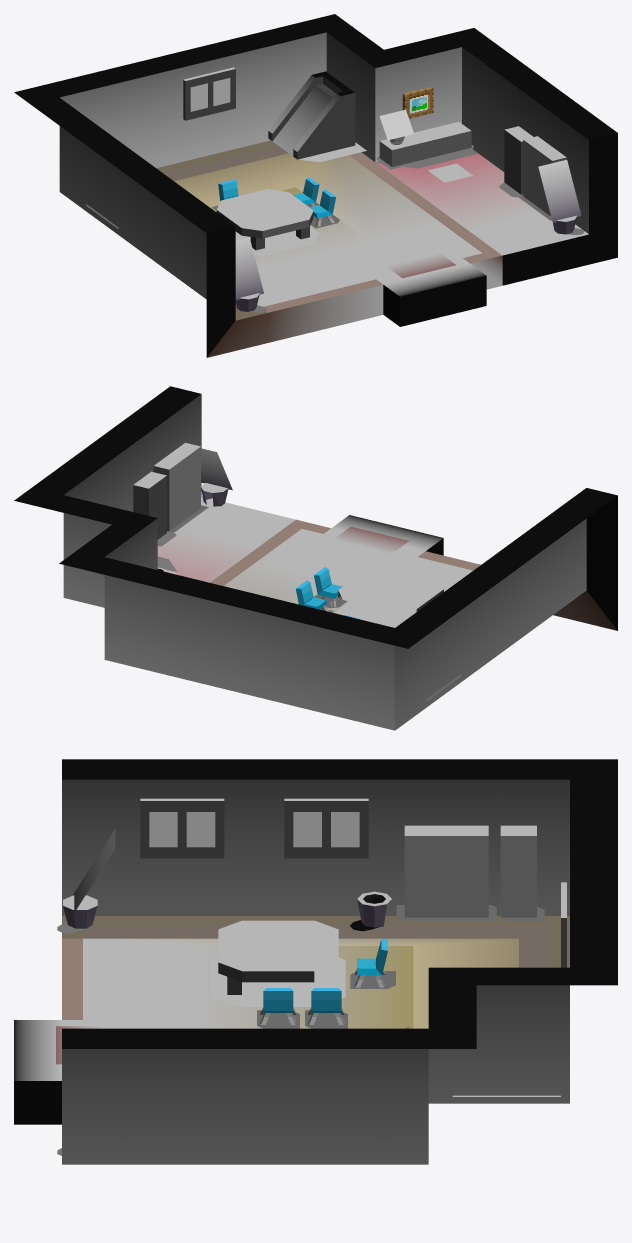
File: aspertia_building_8.obj
3 views of the same model, one above another, from view 1: azimuth 30°, elevation 25°; view 2: azimuth 150°, elevation 25°; view 3: azimuth 270°, elevation 25° (orthographic). The views are drawn at different scales.
Size of the model in its own units: 296 by 85.8 by 261.
